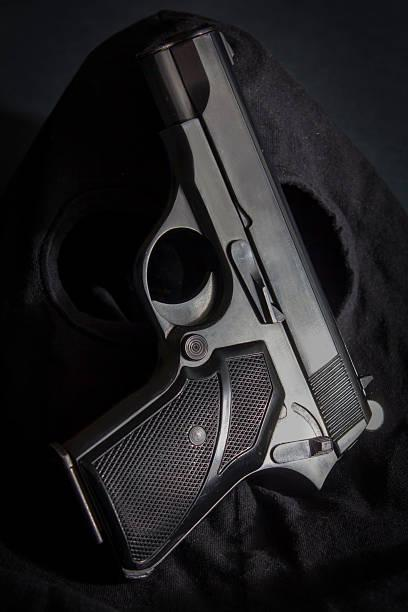weapon: (47, 13, 389, 585)
